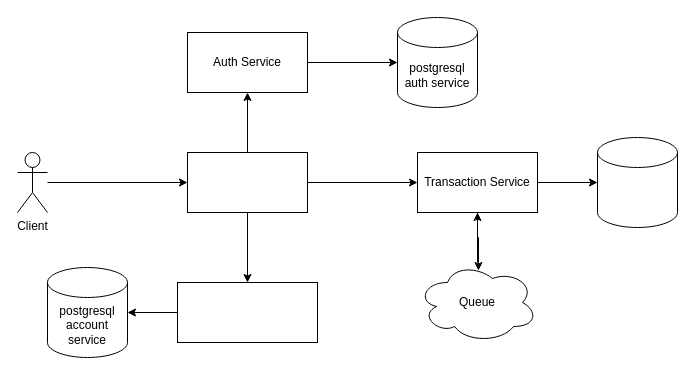
The diagram is 695 pixels wide and 375 high, and some of its shapes have lost their labels. The shapes that lost their labels are listed below. From the top down, each one's centre as x and y in pixels, then its label:
At [247,182]: "Orchestrator".
At [637,182]: "postgresql transaction service".
At [247,312]: "Account Service [account, card, contact]".
